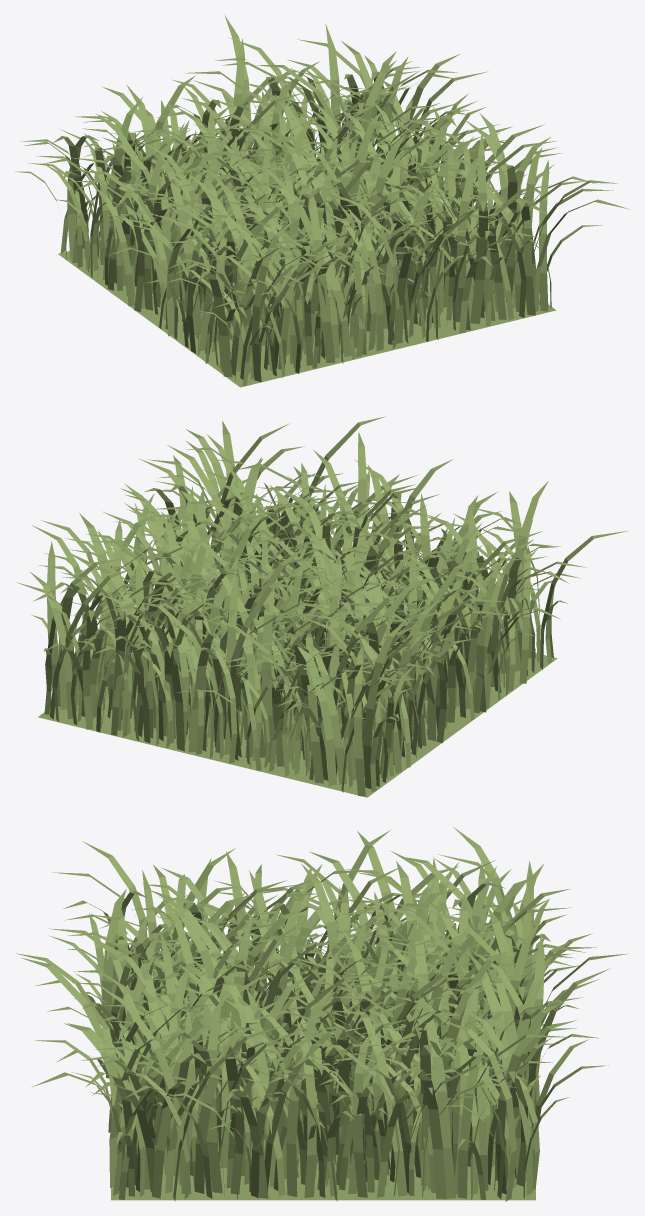
File: grass.glb
3 renders of one model, top to bottom at view 1: azimuth 30°, elevation 25°; view 2: azimuth 150°, elevation 25°; view 3: azimuth 270°, elevation 25°, orthographic. The views are drawn at different scales.
Visible parts, largest first — view 1: file; view 2: file; view 3: file.
Part boxes in pixels (left/top/right/bottom): file: left=15, top=15, right=629, bottom=387; file: left=16, top=416, right=627, bottom=797; file: left=15, top=827, right=628, bottom=1201.
Size of the model in its own units: 1.41 by 0.4922 by 1.45.
